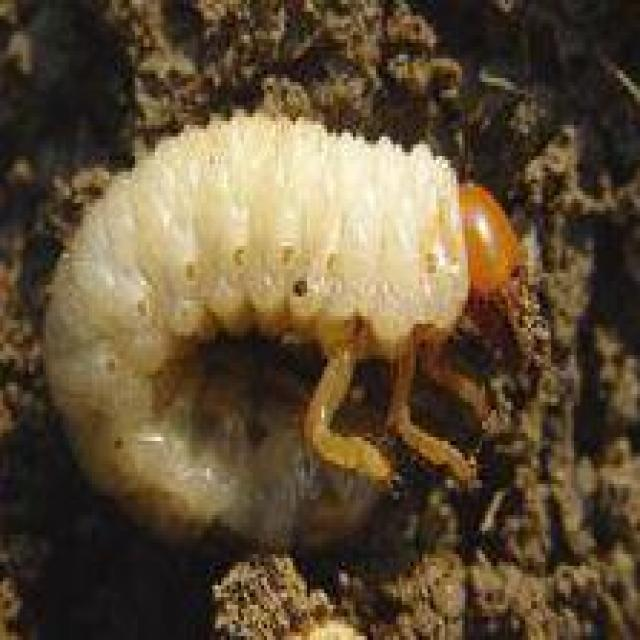Grub-Adult-: (42, 107, 521, 554)
